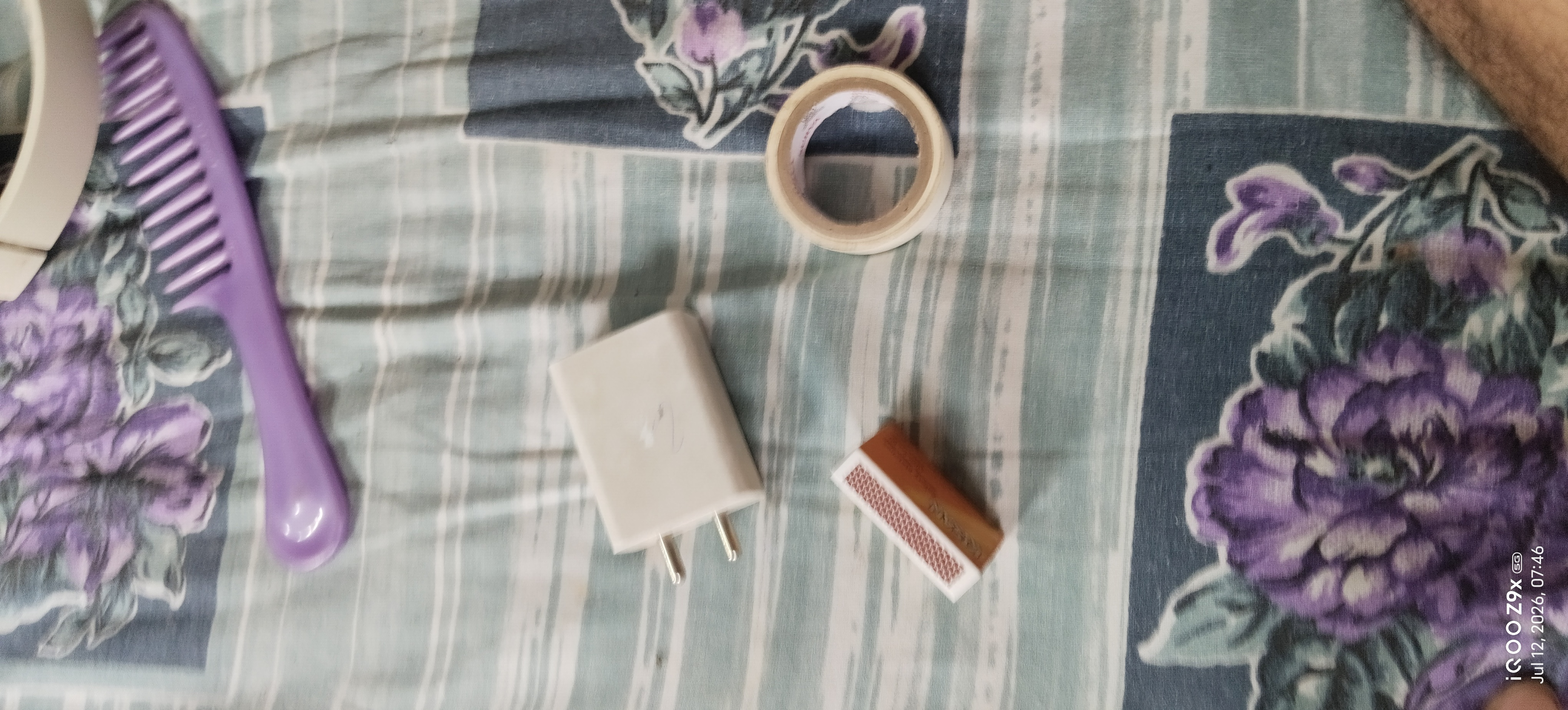charger: (519, 301, 793, 597)
matchbox: (812, 414, 1030, 616)
tape_roll: (718, 50, 969, 270)
